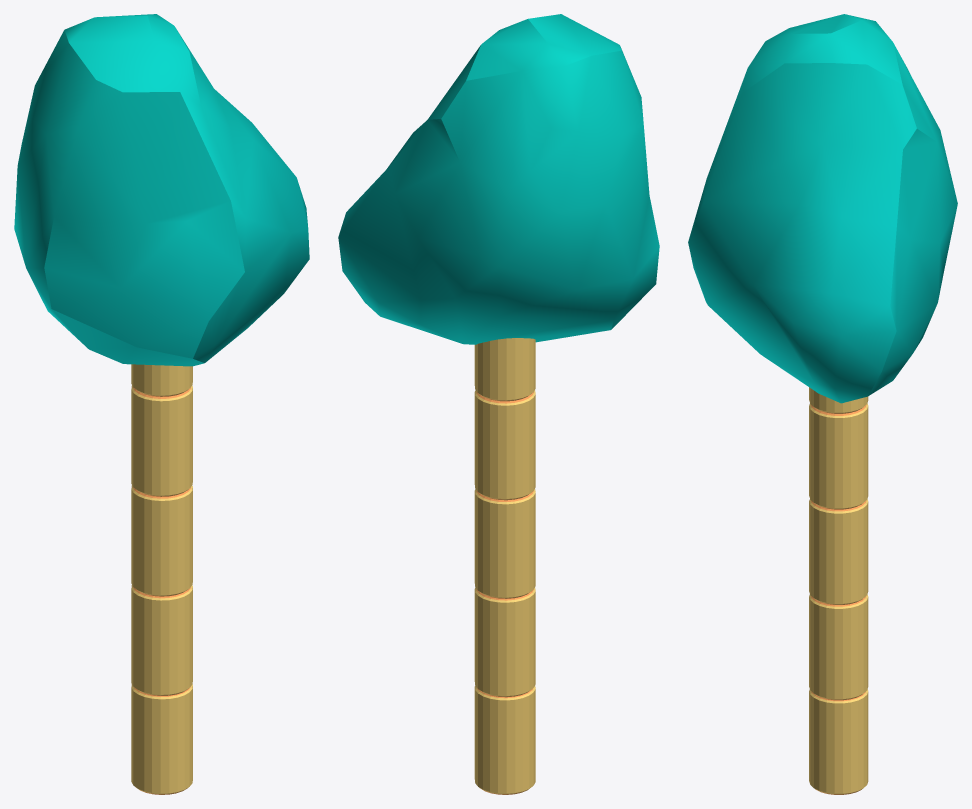
The model's file is Tree_2.fbx.
3 renders of one model, left to right at view 1: azimuth 30°, elevation 25°; view 2: azimuth 150°, elevation 25°; view 3: azimuth 270°, elevation 25°, orthographic. The views are drawn at different scales.
Visible parts, largest first — view 1: rock.061, Cylinder.176, Cylinder.177, Cylinder.178, Cylinder.179, Cylinder.175; view 2: rock.061, Cylinder.176, Cylinder.177, Cylinder.178, Cylinder.179, Cylinder.175; view 3: rock.061, Cylinder.176, Cylinder.177, Cylinder.178, Cylinder.179, Cylinder.175.
Boxes of the visible parts, x1,y1,x2,y2 form: rock.061: [14, 14, 309, 366]; Cylinder.176: [131, 385, 192, 496]; Cylinder.177: [131, 485, 192, 596]; Cylinder.178: [131, 585, 192, 695]; Cylinder.179: [131, 684, 192, 794]; Cylinder.175: [131, 364, 192, 396]; rock.061: [338, 14, 659, 344]; Cylinder.176: [474, 390, 535, 500]; Cylinder.177: [474, 489, 535, 598]; Cylinder.178: [474, 587, 535, 697]; Cylinder.179: [474, 685, 535, 794]; Cylinder.175: [474, 338, 535, 401]; rock.061: [688, 14, 957, 403]; Cylinder.176: [809, 403, 868, 509]; Cylinder.177: [809, 499, 868, 604]; Cylinder.178: [809, 594, 868, 700]; Cylinder.179: [809, 689, 868, 794]; Cylinder.175: [809, 387, 868, 413].
Bounding box in the file's own units: 306 × 799 × 263.
